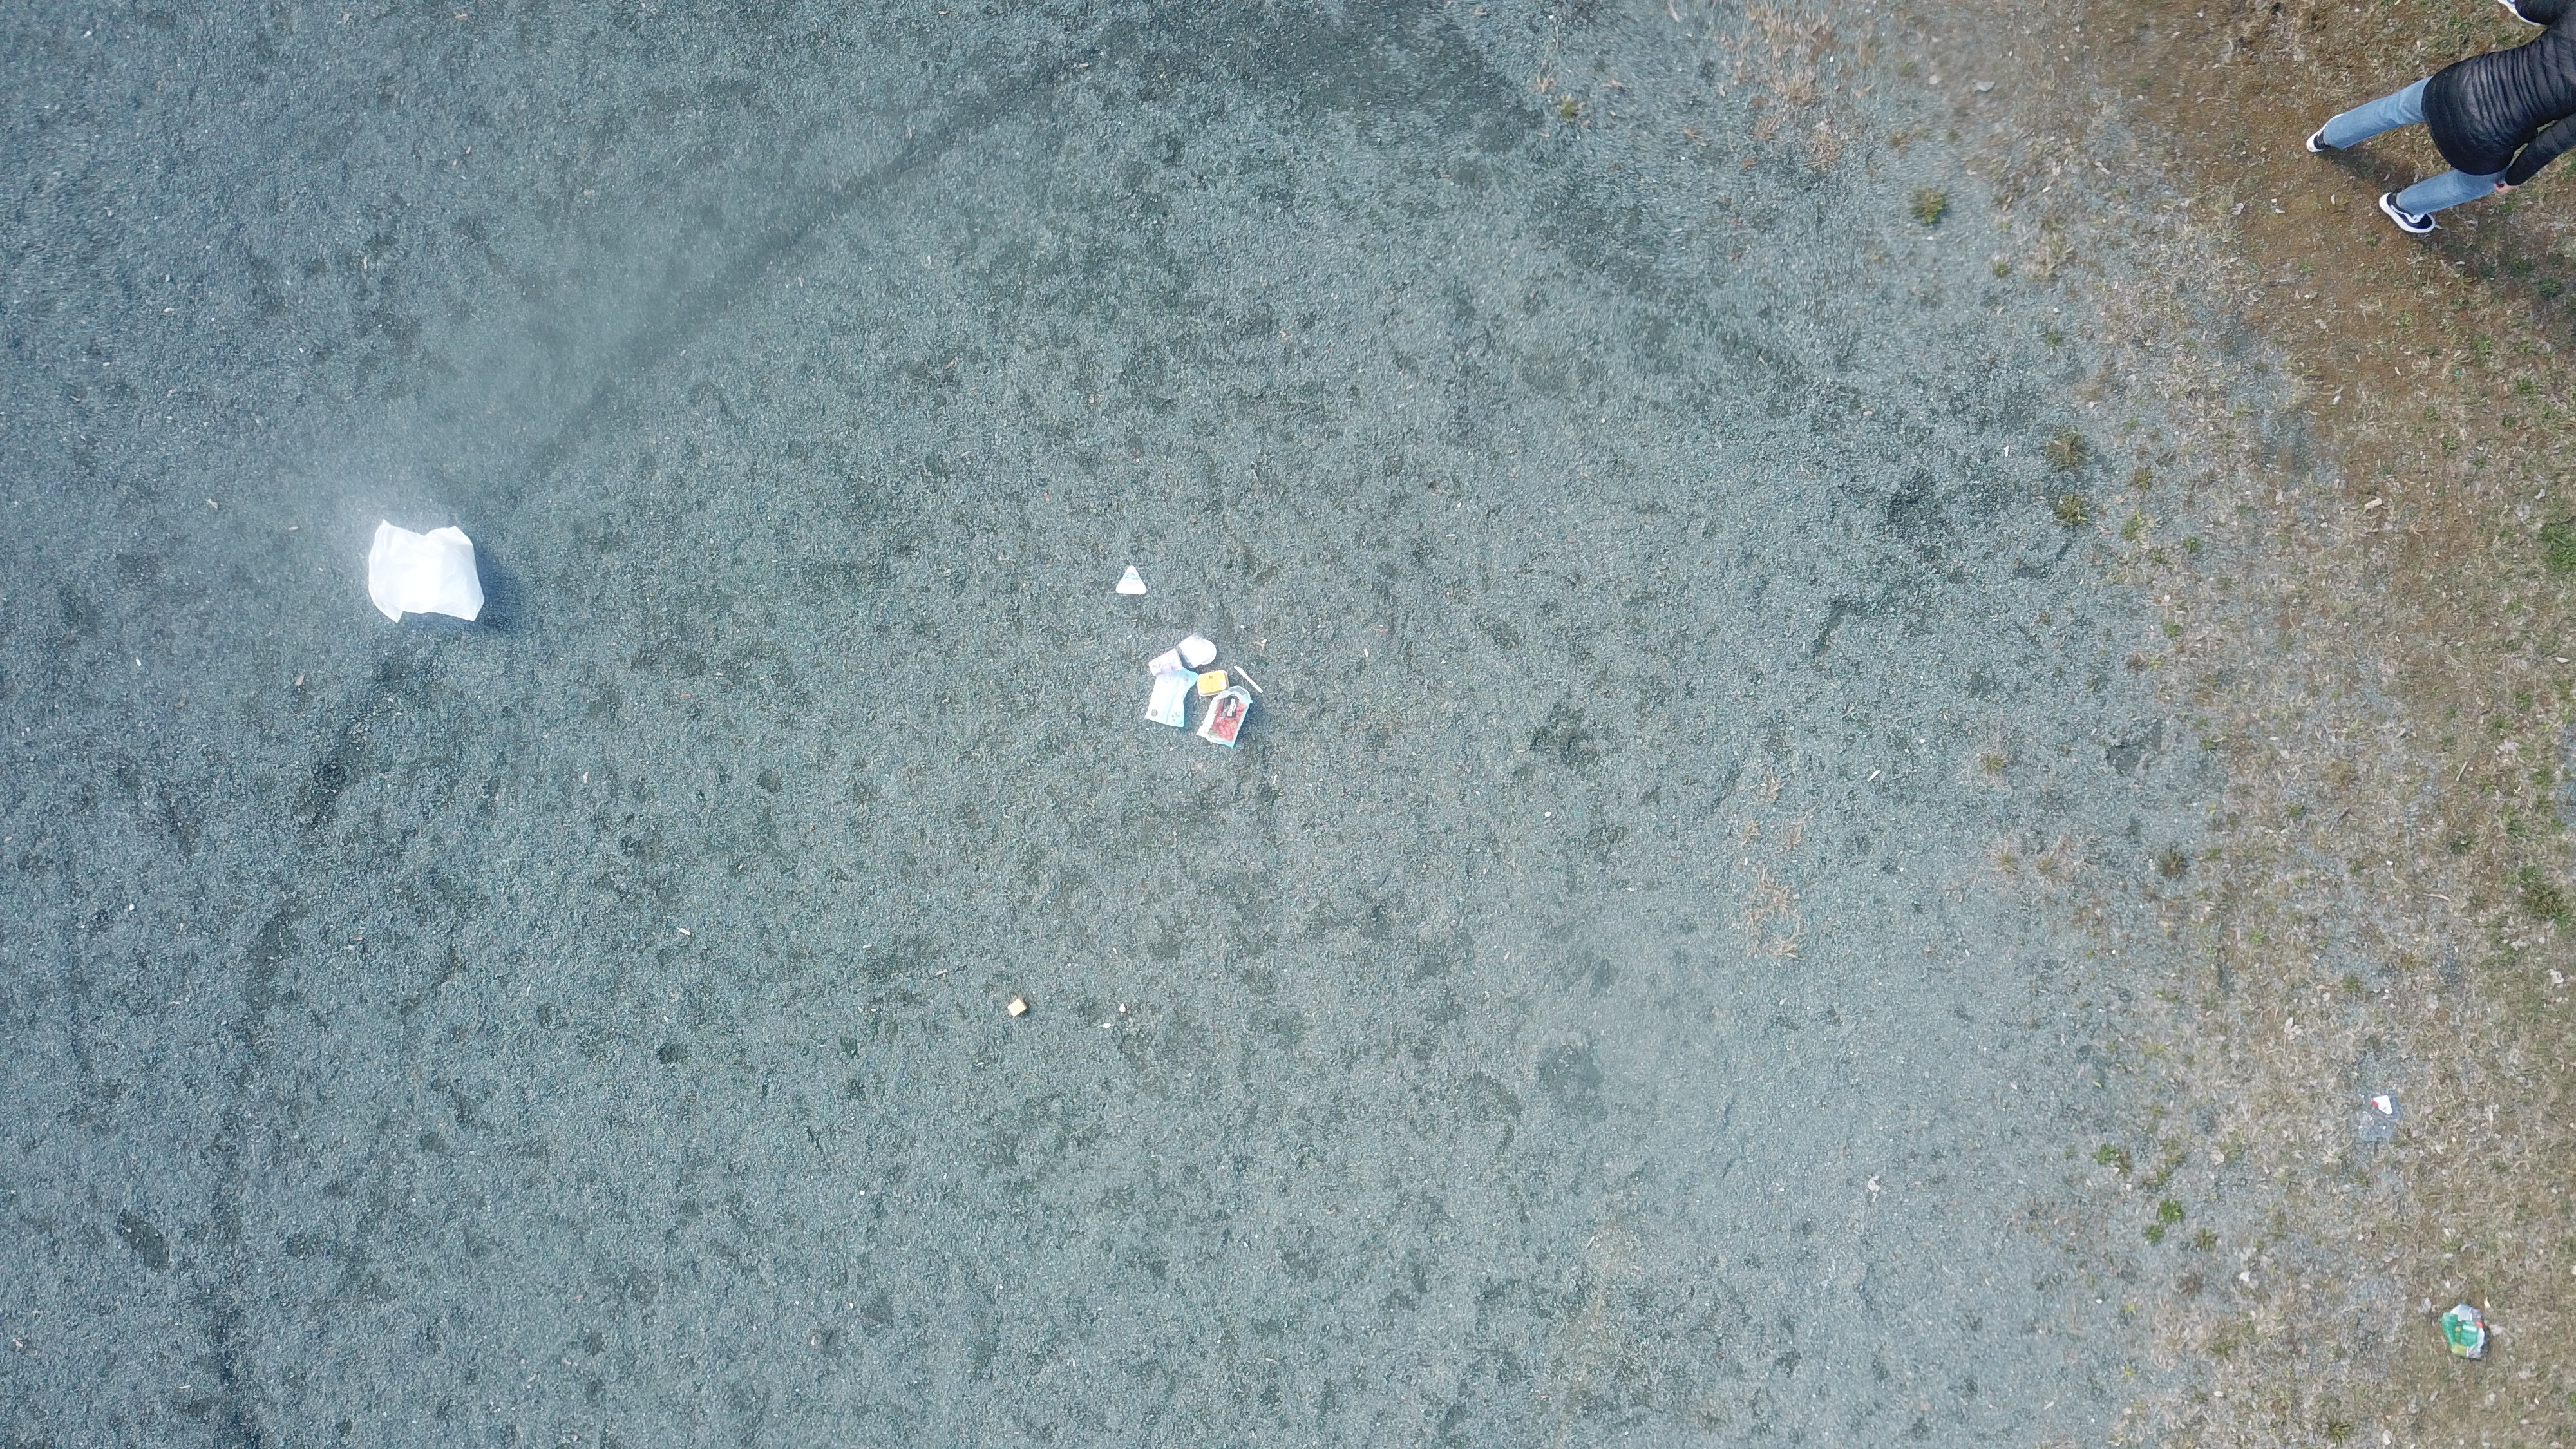Plastic: (372, 517, 487, 621), (1200, 690, 1254, 748), (1145, 669, 1198, 727), (2442, 1304, 2488, 1361), (2355, 1093, 2401, 1139), (1115, 563, 1152, 600), (1178, 635, 1219, 665), (1233, 663, 1265, 694), (1150, 649, 1187, 674), (1198, 671, 1230, 697), (1008, 998, 1026, 1016)
